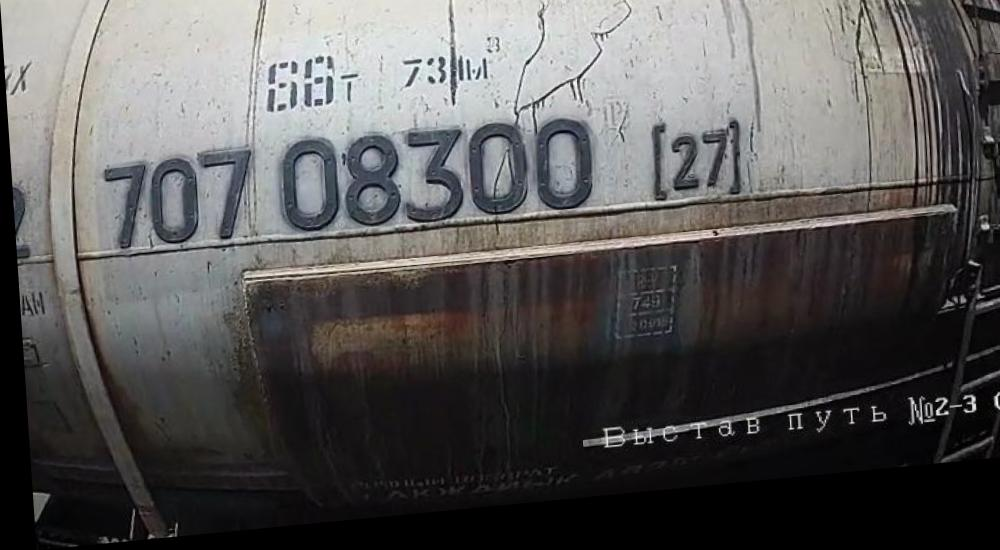Wagon-number: (96, 121, 597, 259)
